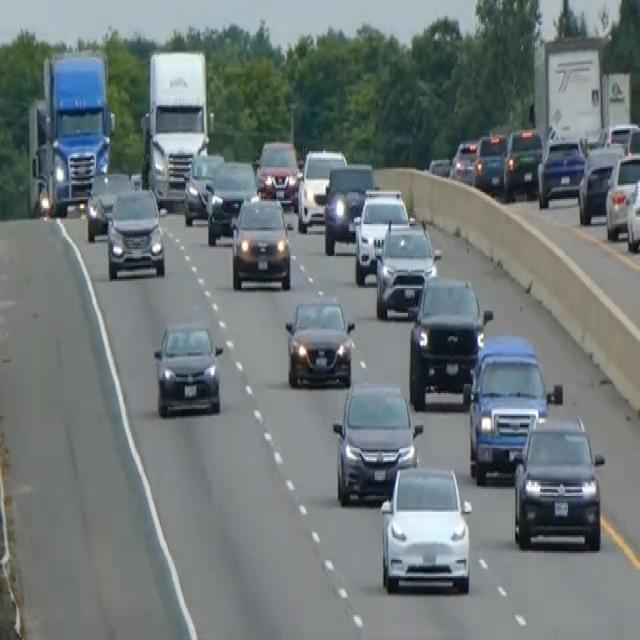car: (464, 332, 561, 483), (512, 411, 605, 551), (379, 462, 472, 596), (407, 272, 492, 409), (331, 379, 422, 505), (152, 318, 223, 418), (374, 215, 441, 318), (284, 292, 355, 389), (230, 194, 292, 290), (105, 185, 166, 279), (352, 188, 409, 284), (323, 160, 375, 254), (205, 157, 257, 246), (296, 146, 346, 231), (577, 142, 623, 224), (536, 135, 586, 208), (85, 169, 133, 240), (182, 149, 224, 226), (604, 149, 639, 240), (503, 124, 543, 196), (256, 137, 298, 203), (472, 130, 508, 194), (597, 119, 639, 155), (450, 135, 478, 183), (625, 170, 639, 252), (427, 154, 452, 178)
lorry: (27, 48, 115, 217)
